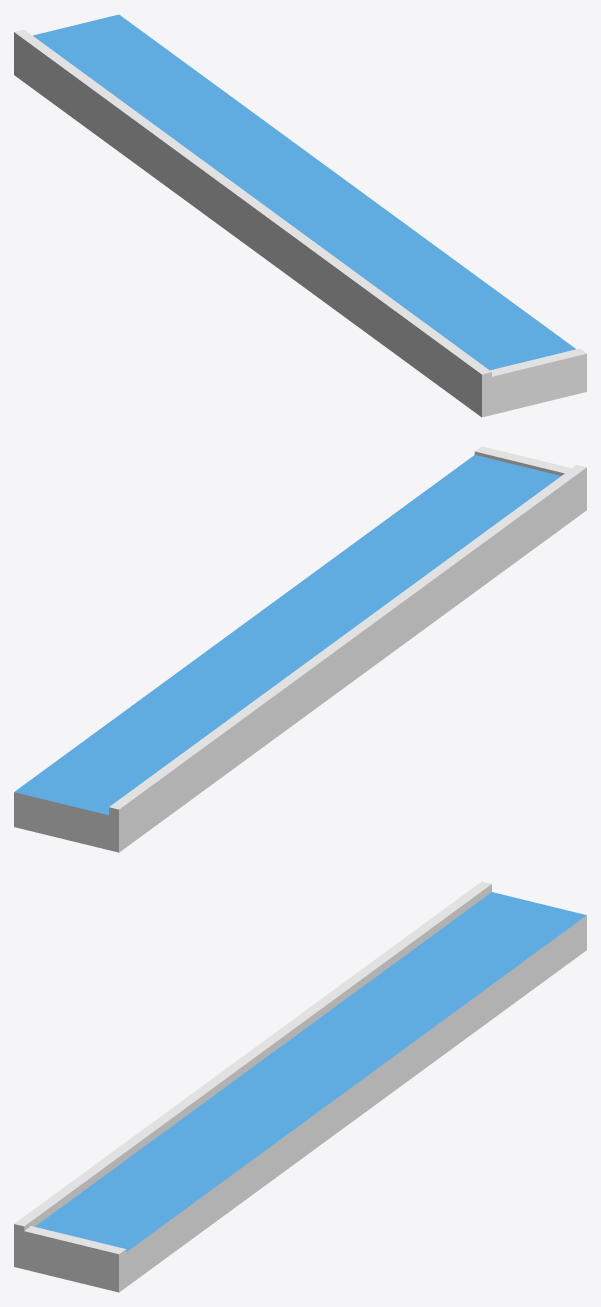
File: Dest_PowerPlant_Lobby_Belt.FBX
The picture shows the model from 3 angles, top to bottom: view 1: azimuth 30°, elevation 25°; view 2: azimuth 150°, elevation 25°; view 3: azimuth 330°, elevation 25°; orthographic projection.
Visible parts, largest first — view 1: Object002; view 2: Object002; view 3: Object002.
Part boxes in pixels (x1=…): Object002: x1=14, y1=14, x2=586, y2=417; Object002: x1=14, y1=446, x2=586, y2=852; Object002: x1=14, y1=881, x2=586, y2=1292.
Size of the model in its own units: 51.7 by 20.24 by 399.
